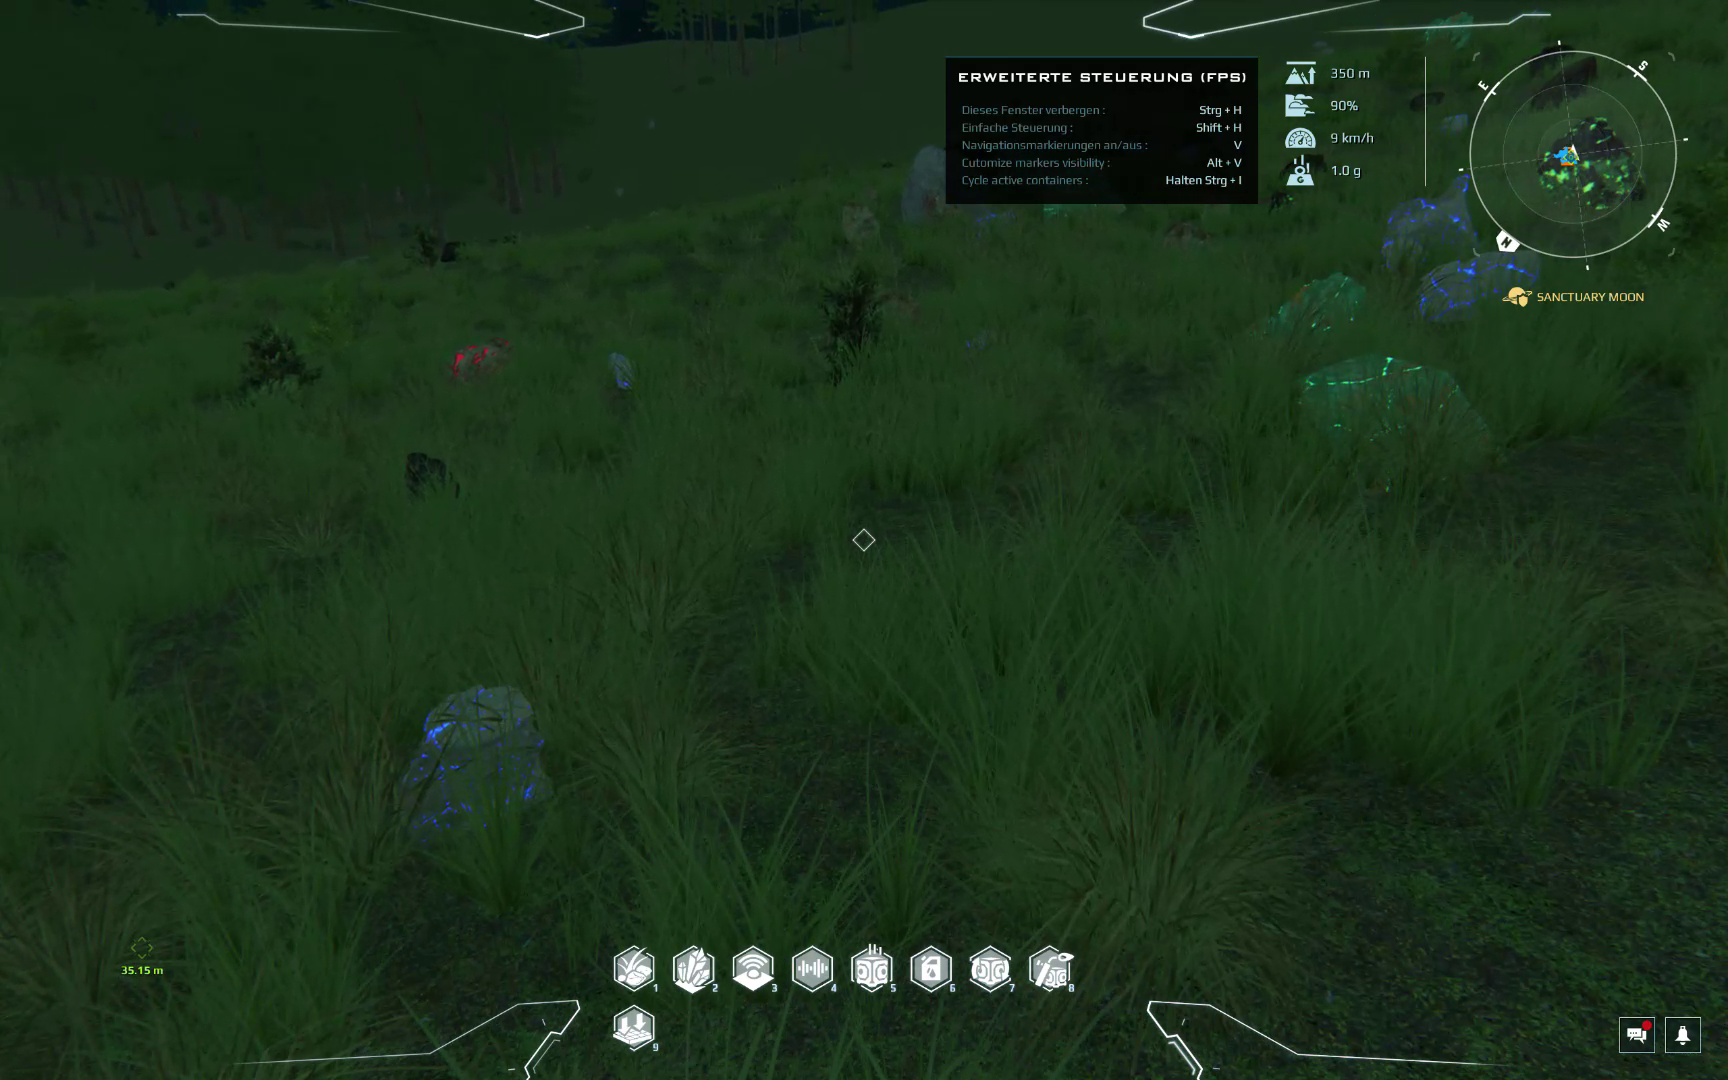Ore: (1293, 355, 1504, 498), (392, 684, 554, 841), (1232, 279, 1371, 361), (1412, 250, 1546, 332), (1380, 178, 1482, 269), (445, 336, 511, 386), (403, 450, 463, 503), (601, 350, 647, 404)
